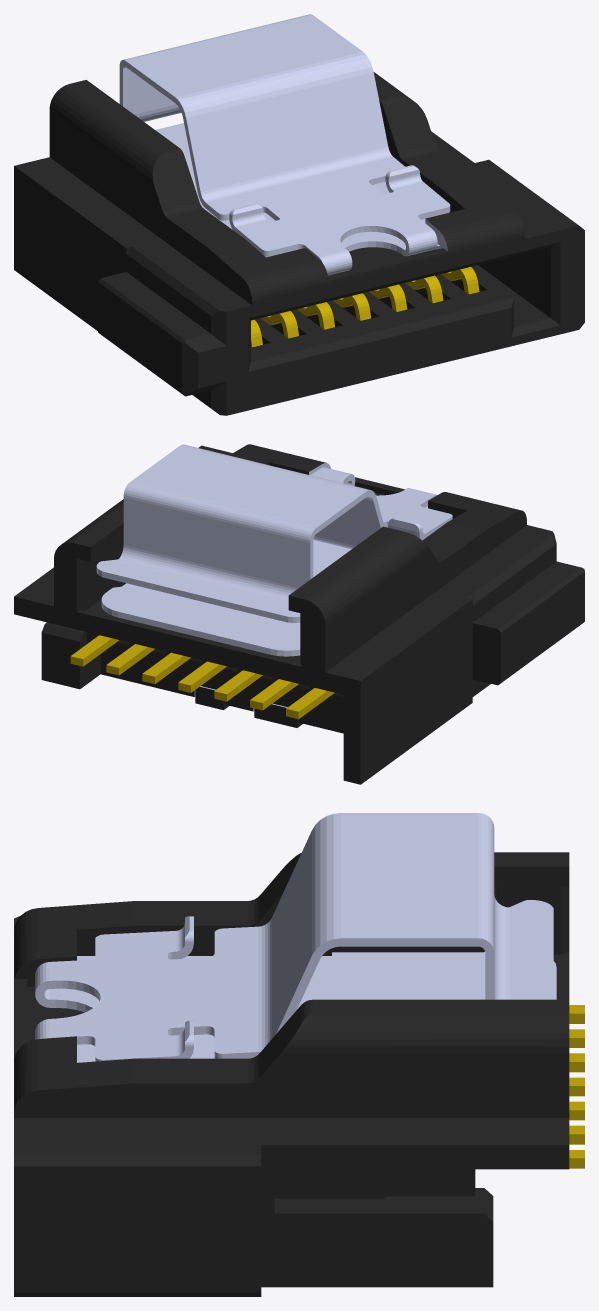
Rendered from SATA Connector Female MOLEX.obj.
The picture shows the model from 3 angles, top to bottom: view 1: azimuth 30°, elevation 25°; view 2: azimuth 150°, elevation 25°; view 3: azimuth 270°, elevation 25°; orthographic projection. The views are drawn at different scales.
Parts seen in each view (by area): view 1: SATA_Connector_Female_MOLEX; view 2: SATA_Connector_Female_MOLEX; view 3: SATA_Connector_Female_MOLEX.
Boxes of the visible parts, bbox=[...] form: SATA_Connector_Female_MOLEX: bbox=[14, 14, 584, 415]; SATA_Connector_Female_MOLEX: bbox=[14, 444, 584, 784]; SATA_Connector_Female_MOLEX: bbox=[14, 813, 584, 1296].
Bounding box in the file's own units: 0.0249 × 0.0138 × 0.0227.
